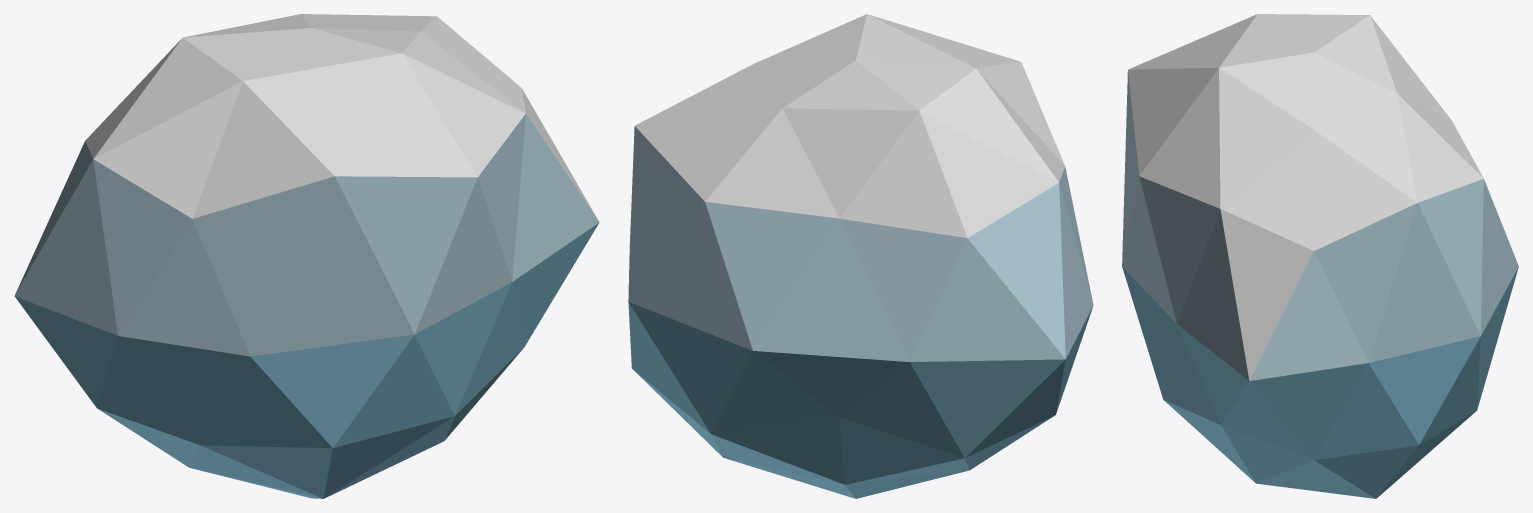
The model's file is iceberg.glb.
3 renders of one model, left to right at view 1: azimuth 30°, elevation 25°; view 2: azimuth 150°, elevation 25°; view 3: azimuth 270°, elevation 25°, orthographic. The views are drawn at different scales.
Visible parts, largest first — view 1: Iceberg; view 2: Iceberg; view 3: Iceberg.
Part boxes in pixels (bbox=[...]): Iceberg: bbox=[14, 14, 599, 498]; Iceberg: bbox=[628, 14, 1093, 498]; Iceberg: bbox=[1122, 14, 1518, 498].
Bounding box in the file's own units: 3.17 × 2.79 × 2.28.
